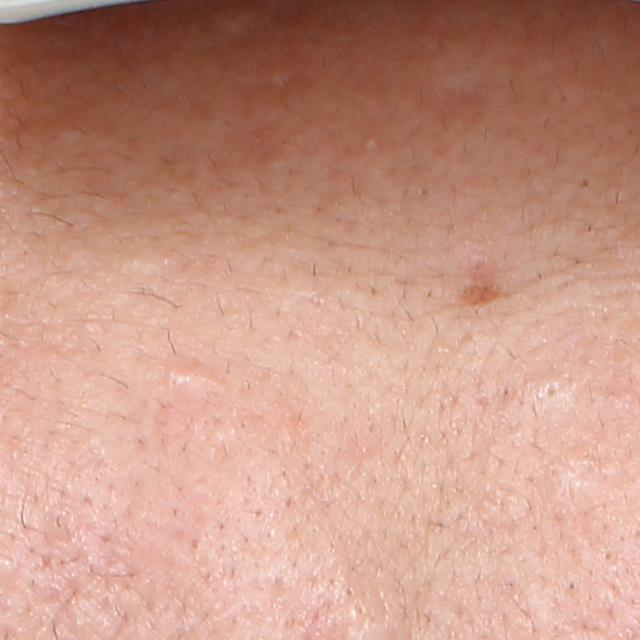atrophic_scar: (454, 247, 508, 313)
comedo: (167, 366, 208, 395), (537, 374, 569, 406), (574, 173, 597, 194), (364, 132, 382, 152)
